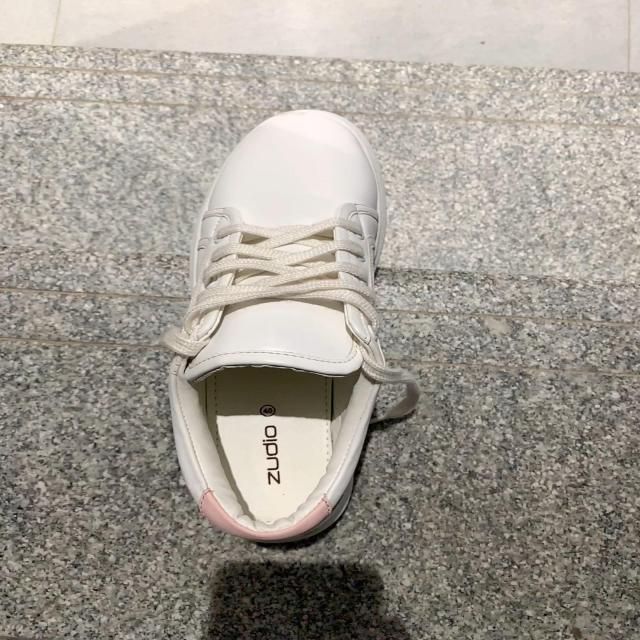shoe: (177, 110, 383, 549)
